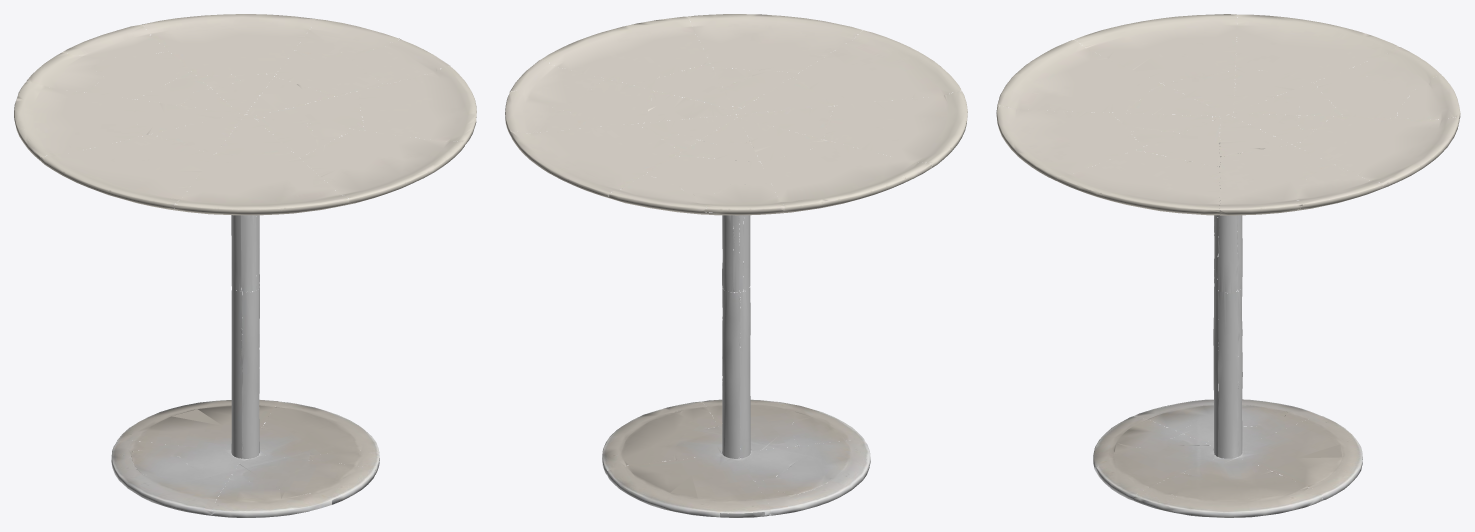
Rendered from round-table-tripo.glb.
The picture shows the model from 3 angles, left to right: view 1: azimuth 30°, elevation 25°; view 2: azimuth 150°, elevation 25°; view 3: azimuth 270°, elevation 25°; orthographic projection.
Visible parts, largest first — view 1: tripo_node_5bb66ea7-d1fb-48a3-97cd-3a1d98c14c31; view 2: tripo_node_5bb66ea7-d1fb-48a3-97cd-3a1d98c14c31; view 3: tripo_node_5bb66ea7-d1fb-48a3-97cd-3a1d98c14c31.
Part boxes in pixels (x1=…): tripo_node_5bb66ea7-d1fb-48a3-97cd-3a1d98c14c31: x1=14, y1=14, x2=476, y2=517; tripo_node_5bb66ea7-d1fb-48a3-97cd-3a1d98c14c31: x1=505, y1=14, x2=967, y2=517; tripo_node_5bb66ea7-d1fb-48a3-97cd-3a1d98c14c31: x1=996, y1=14, x2=1460, y2=517.
Size of the model in its own units: 0.9985 by 0.8317 by 0.9996.
Materials: 1 (1 with a texture image).
